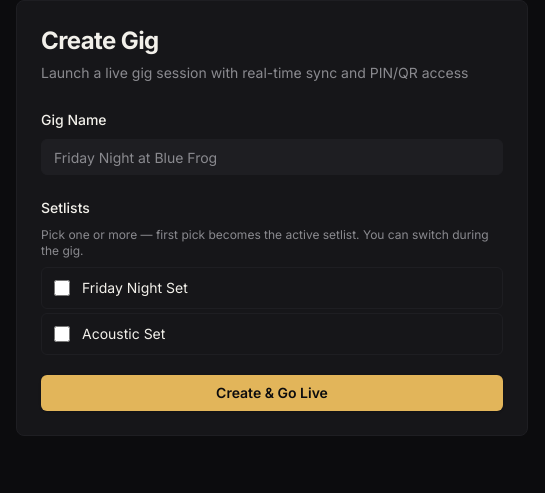
Test: CreateGigForm › validates required name field
This screenshot has width=545, height=493.
Expected: the text "Friday Night Set" is shown, [82,279,188,296]
Click the button "Create & Go Live". click: x=272, y=393
box: [41,375,503,411]
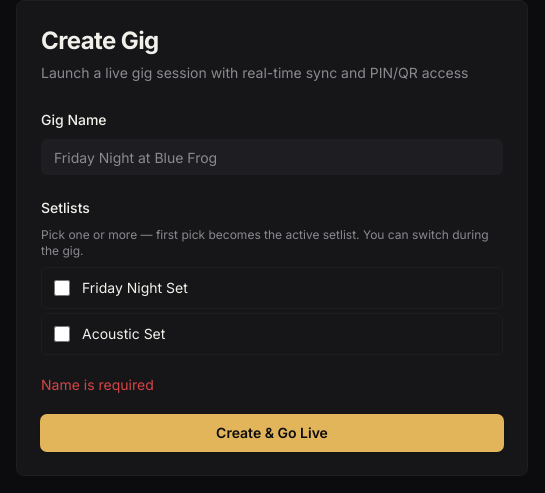
Expected: the text "Name is required" is shown, [41,376,154,393]
